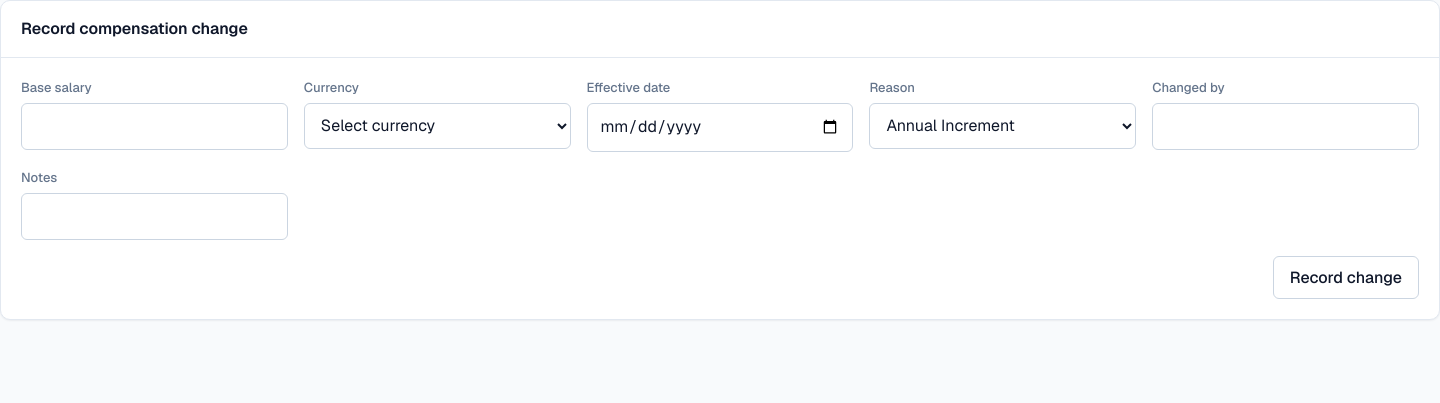
Test: RecordCompensationChangeForm › shows a submit error when the API request fails
Type "140000" into the number field labelled "Base salary" at (154, 126), box left=21, top=103, right=288, bottom=150
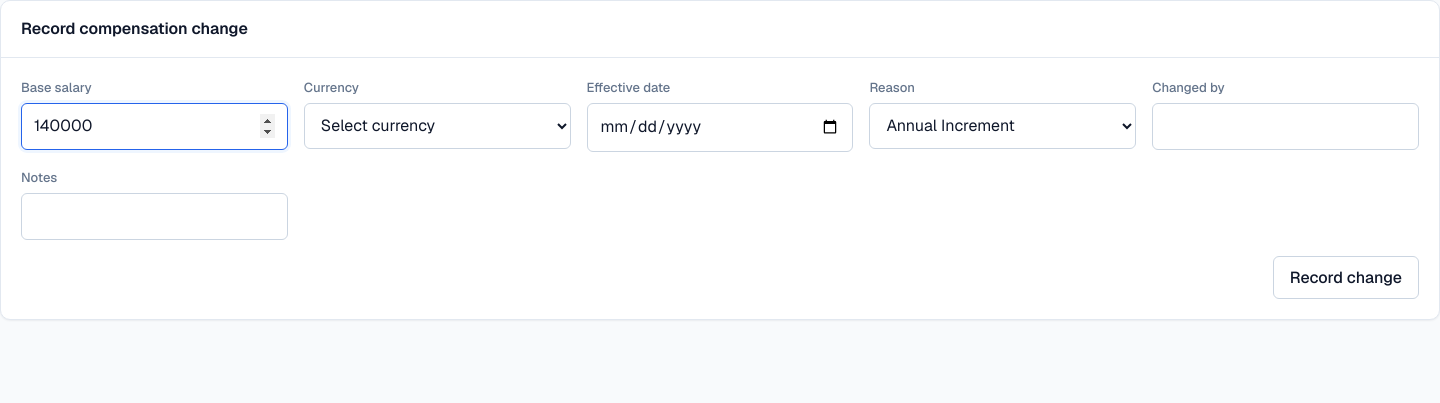
Select "USD" in the dropdown labelled "Currency" at (437, 126), box left=304, top=103, right=571, bottom=149
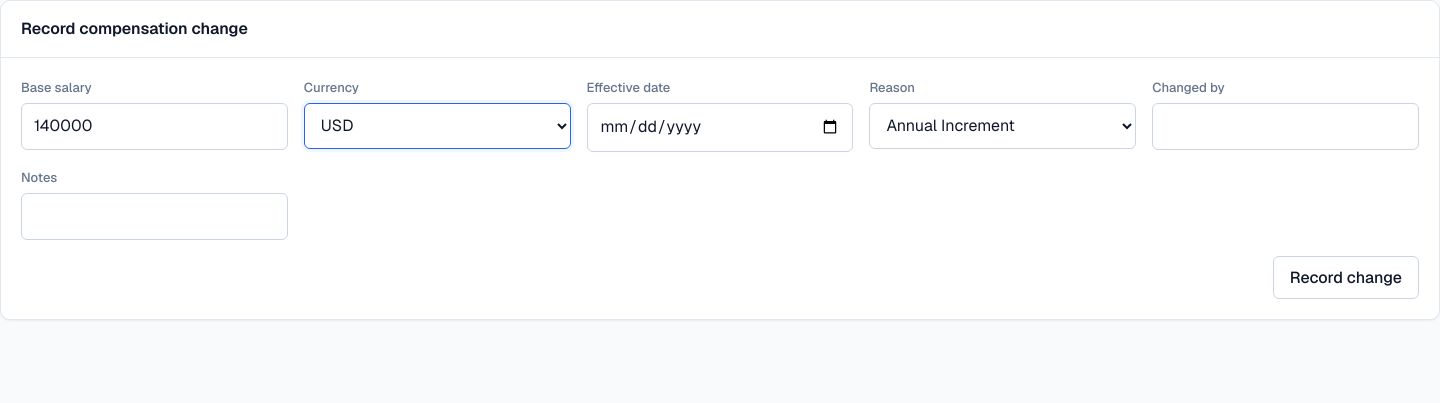
Type "2026-06-01" into the date field labelled "Effective date" at (720, 128), box left=587, top=103, right=853, bottom=152
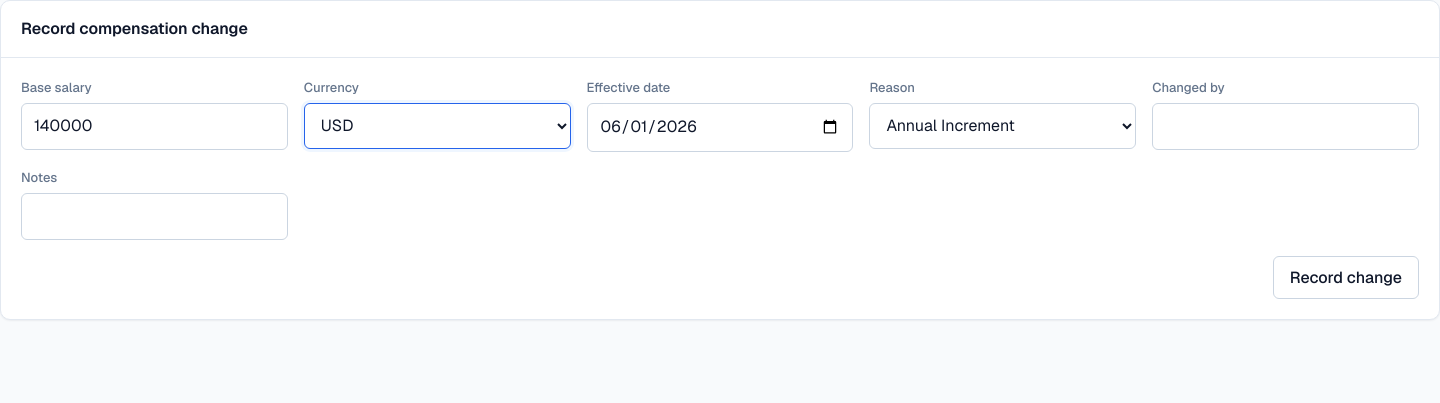
Select "Annual Increment" in the dropdown labelled "Reason" at (1003, 126), box left=869, top=103, right=1136, bottom=149
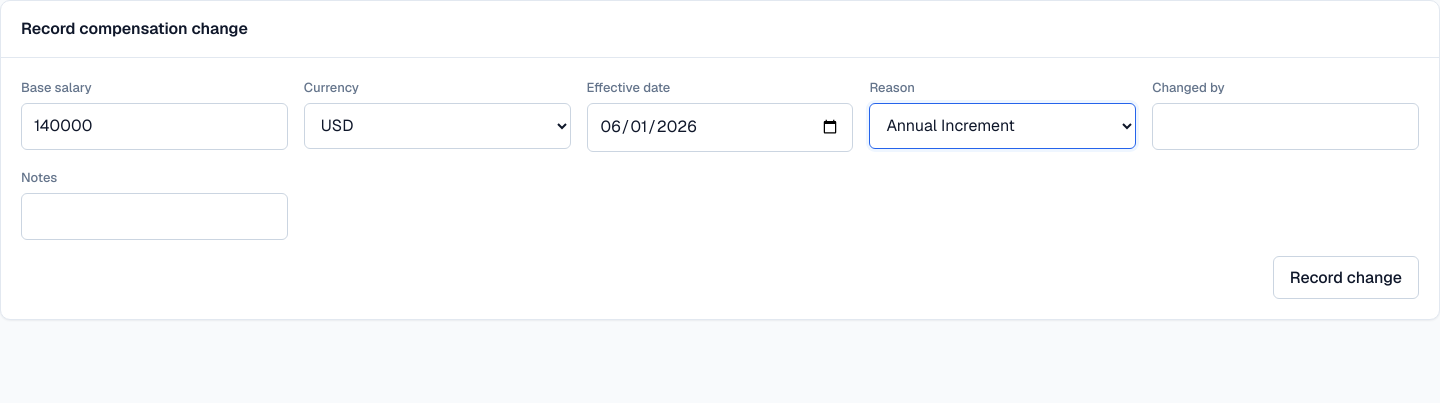
Type "HR Admin" into the field labelled "Changed by" at (1286, 126), box left=1152, top=103, right=1419, bottom=150
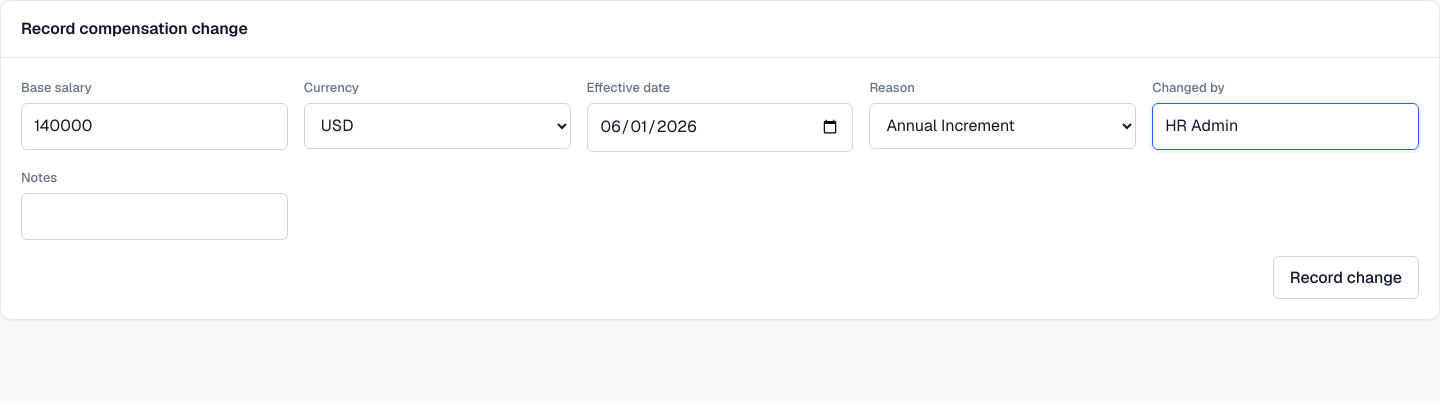
Submit the form, box left=21, top=78, right=1419, bottom=299
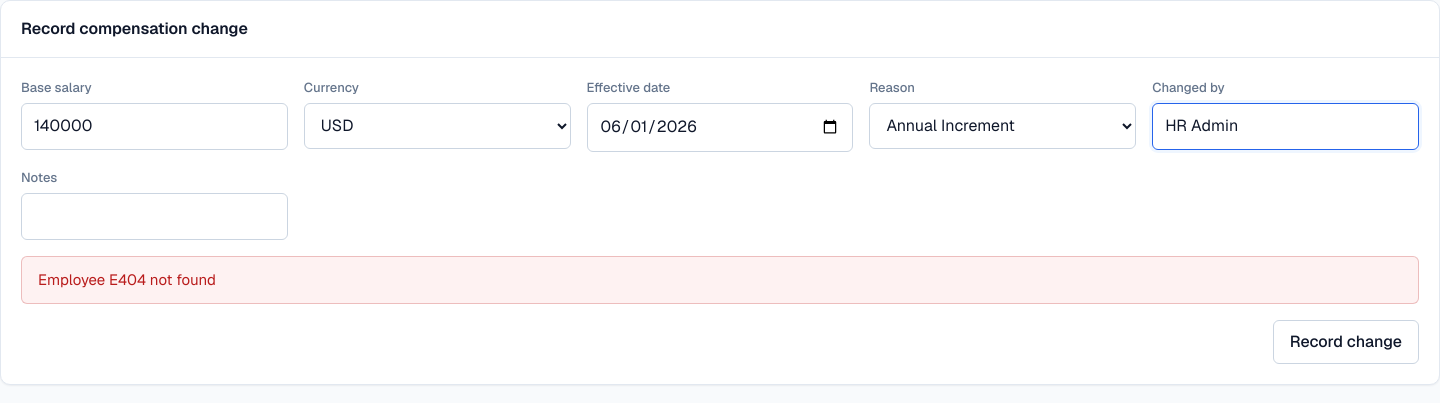
Expected: the text "Employee E404 not found" is shown, left=21, top=256, right=1419, bottom=304
